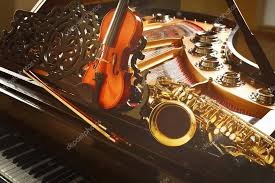Piano: (1, 58, 183, 183)
Saxophone: (152, 62, 275, 183)
Violin: (59, 1, 170, 116)
